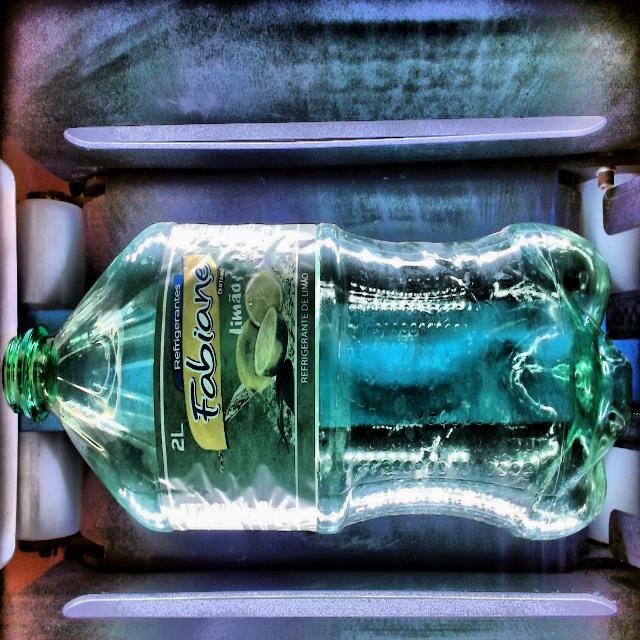bottom: (318, 225, 630, 539)
label: (154, 224, 316, 531)
neck: (2, 224, 171, 531)
